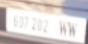0: (37, 17, 43, 32), (19, 14, 24, 29)
2: (31, 16, 37, 31), (43, 19, 49, 33)
6: (13, 14, 19, 27)
7: (23, 15, 29, 29)
w: (56, 18, 68, 36), (67, 20, 80, 36)
